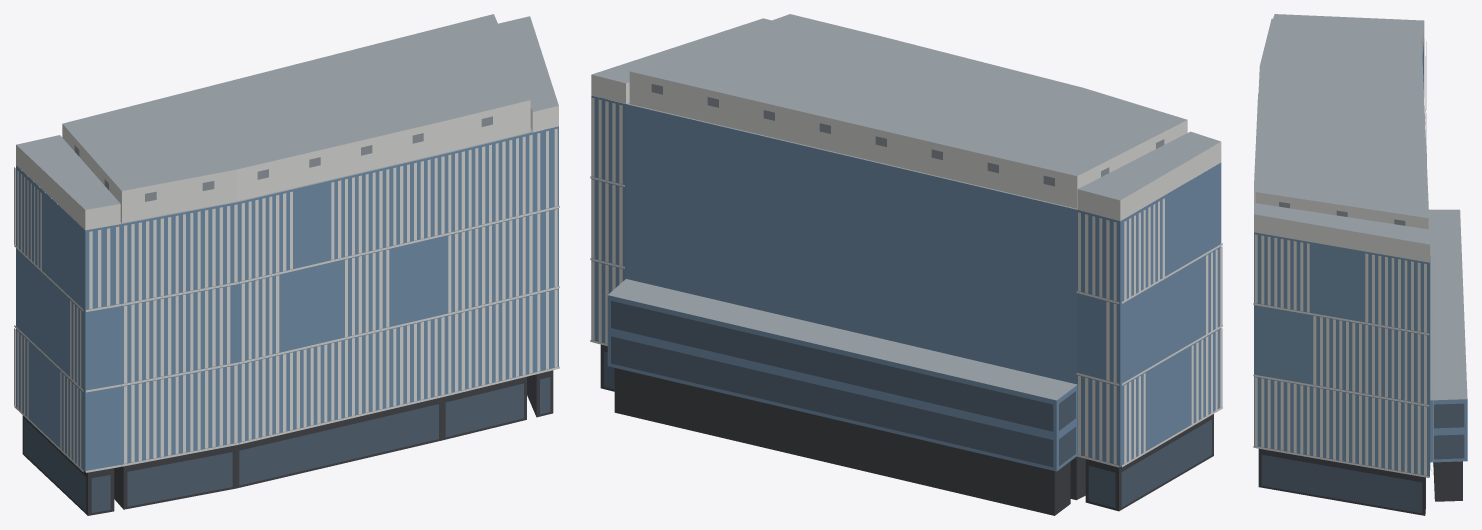
File: clt-pearl-research-one.glb
3 renders of one model, left to right at view 1: azimuth 30°, elevation 25°; view 2: azimuth 150°, elevation 25°; view 3: azimuth 270°, elevation 25°, orthographic. The views are drawn at different scales.
Visible parts, largest first — view 1: Research One at The Pearl; view 2: Research One at The Pearl; view 3: Research One at The Pearl.
Part boxes in pixels (x1,y1,x2,y2): Research One at The Pearl: (14,14,559,515); Research One at The Pearl: (590,14,1222,515); Research One at The Pearl: (1253,14,1467,515).
Size of the model in its own units: 96.4 by 55 by 37.94.
